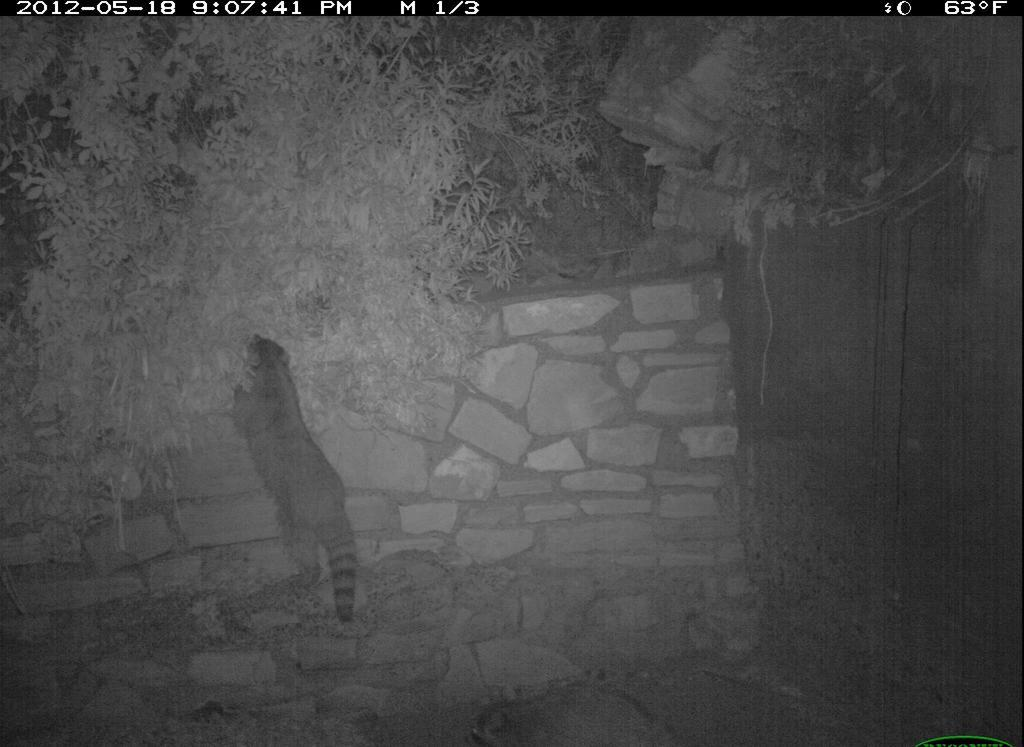raccoon: (231, 319, 374, 637)
